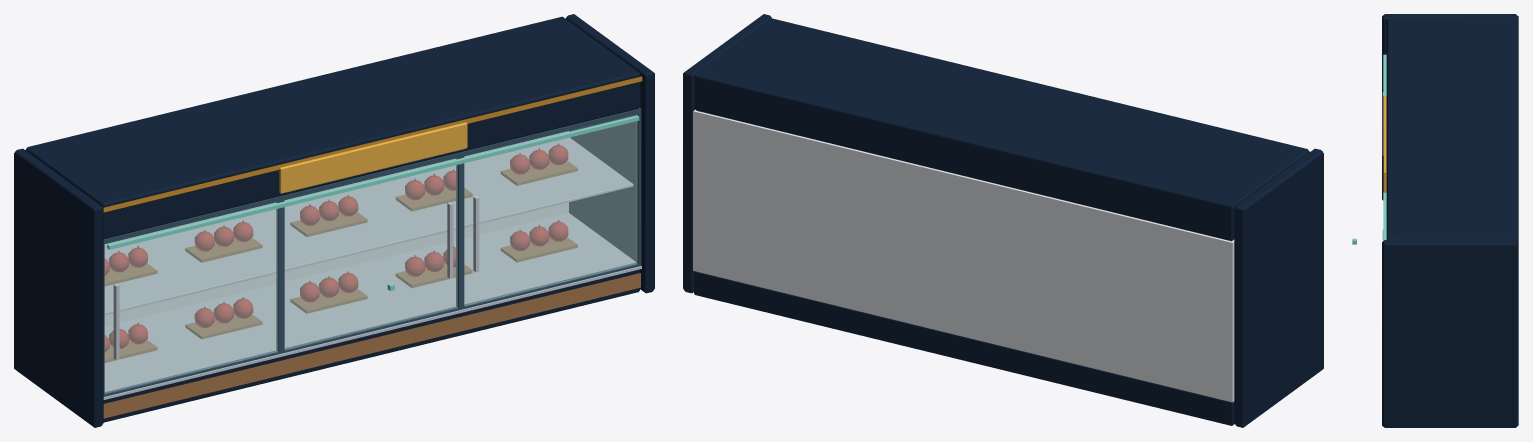
The model's file is CM_Fixture_ProduceFridge.fbx.
The picture shows the model from 3 angles, left to right: view 1: azimuth 30°, elevation 25°; view 2: azimuth 150°, elevation 25°; view 3: azimuth 270°, elevation 25°; orthographic projection. The views are drawn at different scales.
Parts seen in each view (by area): view 1: Body, Glass, PriceTag, LightStrip, Item2, Item5, Item8, Item7, Item10, Item3, Item9, Item4 (+2 smaller); view 2: Body; view 3: Body, PriceTag, LightStrip.
Part boxes in pixels (x1=…): Body: x1=14, y1=14, x2=654, y2=427; Glass: x1=104, y1=114, x2=637, y2=393; PriceTag: x1=279, y1=122, x2=467, y2=193; LightStrip: x1=107, y1=115, x2=639, y2=249; Item2: x1=185, y1=297, x2=262, y2=339; Item5: x1=500, y1=220, x2=577, y2=262; Item8: x1=290, y1=195, x2=367, y2=236; Item7: x1=185, y1=220, x2=262, y2=262; Item10: x1=500, y1=143, x2=577, y2=185; Item3: x1=290, y1=271, x2=367, y2=313; Item9: x1=395, y1=169, x2=472, y2=211; Item4: x1=395, y1=246, x2=472, y2=287; Body: x1=683, y1=14, x2=1323, y2=427; Body: x1=1382, y1=14, x2=1518, y2=427; PriceTag: x1=1383, y1=95, x2=1386, y2=192; LightStrip: x1=1383, y1=54, x2=1386, y2=240.
Size of the model in its own units: 24 by 7.3 by 9.
Materials: 2 (2 with a texture image).
